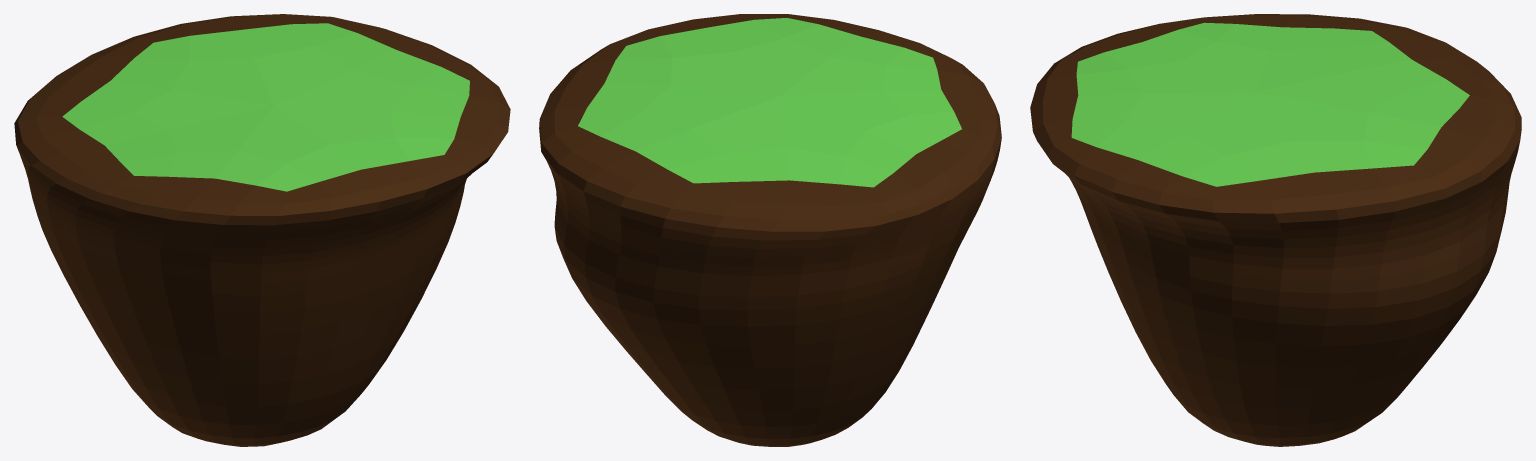
Rendered from mini island1.fbx.
3 views of the same model, side by side, from view 1: azimuth 30°, elevation 25°; view 2: azimuth 150°, elevation 25°; view 3: azimuth 270°, elevation 25° (orthographic). The views are drawn at different scales.
Visible parts, largest first — view 1: Cylinder; view 2: Cylinder; view 3: Cylinder.
Part boxes in pixels (box(x1,y1,x2,y2)): Cylinder: box(14, 14, 510, 446); Cylinder: box(539, 14, 1001, 446); Cylinder: box(1030, 14, 1521, 446).
Bounding box in the file's own units: 696 × 529 × 688.
